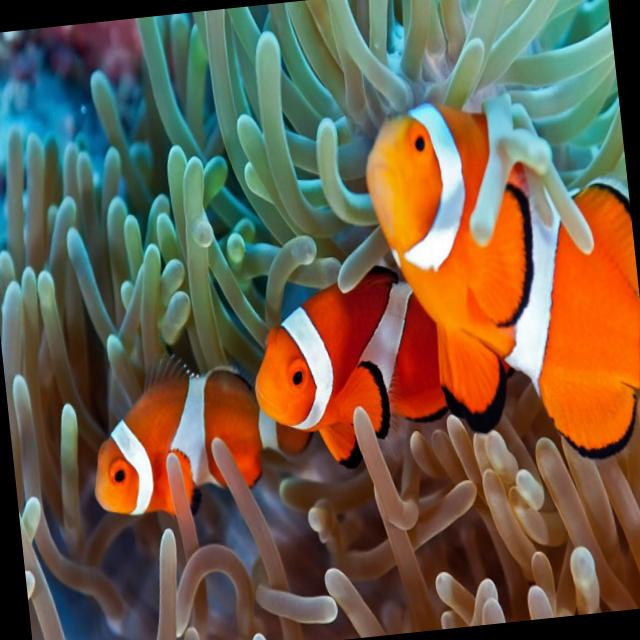ClownFish: (359, 76, 640, 480), (246, 256, 498, 474), (84, 349, 317, 516)
